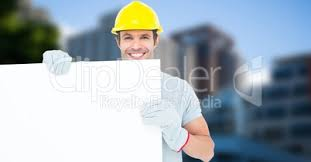Person_wearing_helmet: (106, 0, 168, 43)
